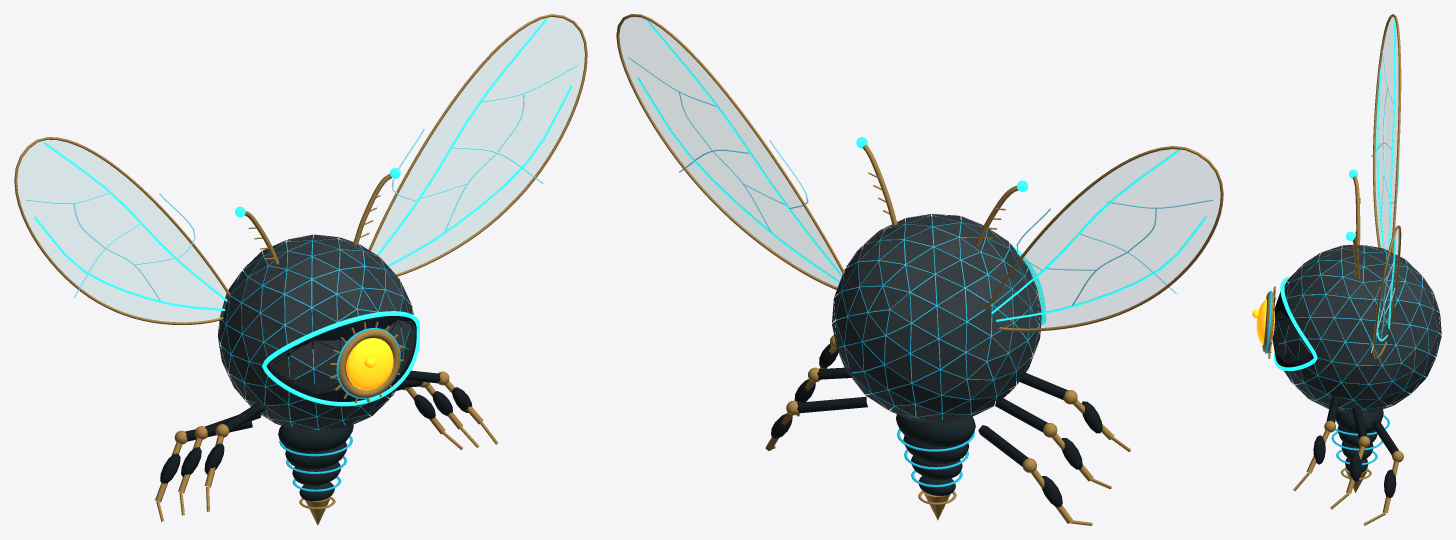
Rendered from mirror-gap-v0.0.1.glb.
3 views of the same model, side by side, from view 1: azimuth 30°, elevation 25°; view 2: azimuth 150°, elevation 25°; view 3: azimuth 270°, elevation 25° (orthographic). The views are drawn at different scales.
Visible parts, largest first — view 1: Transparent_wing_membrane (×2), Dark_fragmented_spherical_shell, Wing_gold_rim (×2), Subshell_blue_fissures, Almond_eye_dark_recess, Cyan_eye_fissure, Amber_living_core, Abdomen_plate_0, Amber_iris_mount, Abdomen_plate_1, Neural_vein_0, Neural_vein_1 (+1 smaller); view 2: Transparent_wing_membrane (×2), Dark_fragmented_spherical_shell, Subshell_blue_fissures, Wing_gold_rim (×2), Abdomen_plate_0, Neural_vein_1 (×2), Abdomen_plate_1, Neural_vein_0, Upper_leg, Abdomen_plate_2; view 3: Dark_fragmented_spherical_shell, Transparent_wing_membrane (×2), Subshell_blue_fissures, Wing_gold_rim (×2), Upper_leg (×3), Leg_armour (×3), Abdomen_plate_0, Cyan_eye_fissure, Neural_vein_0, Almond_eye_dark_recess, Neural_vein_1, Amber_iris_mount (+4 smaller).
Boxes of the visible parts, <box> form: Transparent_wing_membrane (×2): <box>17,17,584,321</box>; Dark_fragmented_spherical_shell: <box>218,234,415,432</box>; Wing_gold_rim (×2): <box>14,14,587,324</box>; Subshell_blue_fissures: <box>221,237,412,429</box>; Almond_eye_dark_recess: <box>266,316,416,401</box>; Cyan_eye_fissure: <box>262,311,419,406</box>; Amber_living_core: <box>346,338,393,390</box>; Abdomen_plate_0: <box>278,424,353,452</box>; Amber_iris_mount: <box>338,329,400,397</box>; Abdomen_plate_1: <box>285,442,346,469</box>; Neural_vein_0: <box>376,19,546,256</box>; Neural_vein_1: <box>387,85,572,266</box>; Transparent_wing_membrane (×2): <box>619,17,1219,328</box>; Dark_fragmented_spherical_shell: <box>832,214,1041,422</box>; Subshell_blue_fissures: <box>835,216,1038,419</box>; Wing_gold_rim (×2): <box>616,14,1223,331</box>; Abdomen_plate_0: <box>896,413,975,446</box>; Neural_vein_1 (×2): <box>637,77,1207,321</box>; Abdomen_plate_1: <box>903,435,968,463</box>; Neural_vein_0: <box>646,20,843,279</box>; Upper_leg: <box>797,396,867,413</box>; Abdomen_plate_2: <box>911,455,962,480</box>; Dark_fragmented_spherical_shell: <box>1273,245,1441,413</box>; Transparent_wing_membrane (×2): <box>1375,17,1398,356</box>; Subshell_blue_fissures: <box>1276,247,1439,410</box>; Wing_gold_rim (×2): <box>1373,14,1401,359</box>; Upper_leg (×3): <box>1326,395,1398,455</box>; Leg_armour (×3): <box>1313,435,1396,497</box>; Abdomen_plate_0: <box>1336,409,1383,433</box>; Cyan_eye_fissure: <box>1274,277,1317,370</box>; Neural_vein_0: <box>1388,21,1395,248</box>; Almond_eye_dark_recess: <box>1272,291,1313,367</box>; Neural_vein_1: <box>1376,69,1384,251</box>; Amber_iris_mount: <box>1262,292,1274,352</box>.
Bounding box in the file's own units: 3.52 × 2.54 × 1.18.
